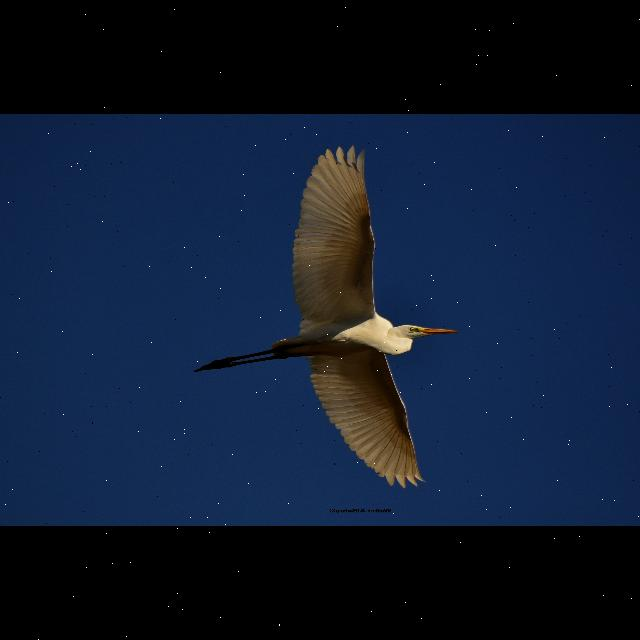egret: (198, 147, 462, 485)
